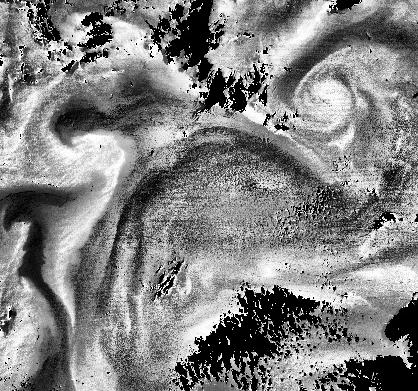CE: (290, 46, 379, 137)
